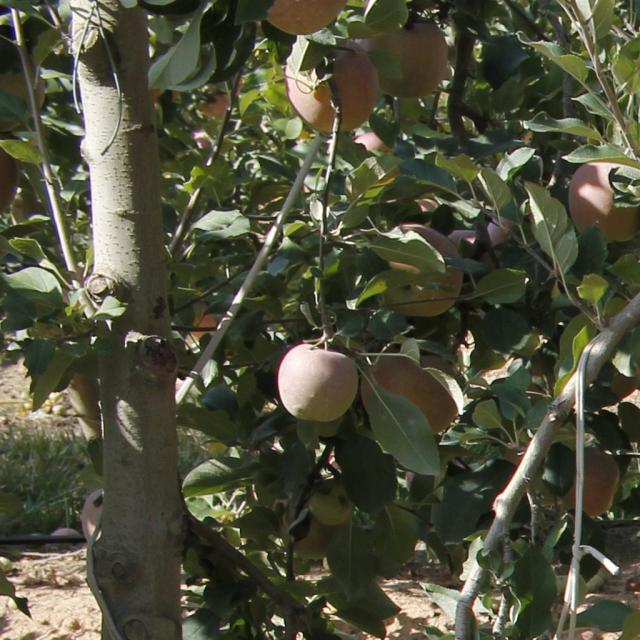100-_ripeness: (286, 40, 378, 132), (383, 222, 462, 317), (361, 356, 456, 434), (360, 23, 448, 98), (278, 344, 357, 421), (568, 162, 640, 242), (562, 448, 620, 515), (280, 511, 348, 558), (266, 1, 346, 35), (308, 478, 352, 526), (1, 72, 44, 111), (80, 488, 101, 541), (1, 157, 20, 214), (488, 217, 516, 243), (355, 132, 390, 152), (200, 93, 228, 115), (448, 231, 476, 247)
